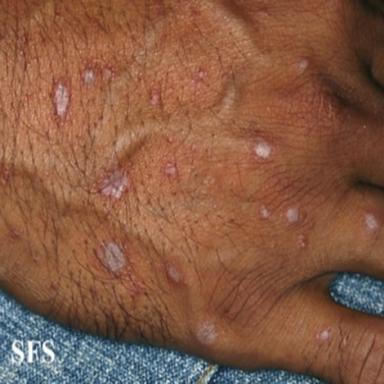lichen: (101, 170, 130, 198), (103, 242, 125, 273), (55, 81, 69, 117), (197, 324, 216, 344), (255, 141, 271, 159), (167, 266, 181, 283), (316, 327, 331, 341), (365, 213, 378, 229), (287, 208, 299, 223), (164, 163, 177, 176), (84, 69, 94, 84), (150, 94, 159, 106), (103, 68, 112, 80), (299, 59, 308, 69), (261, 209, 269, 219), (198, 70, 204, 78)
